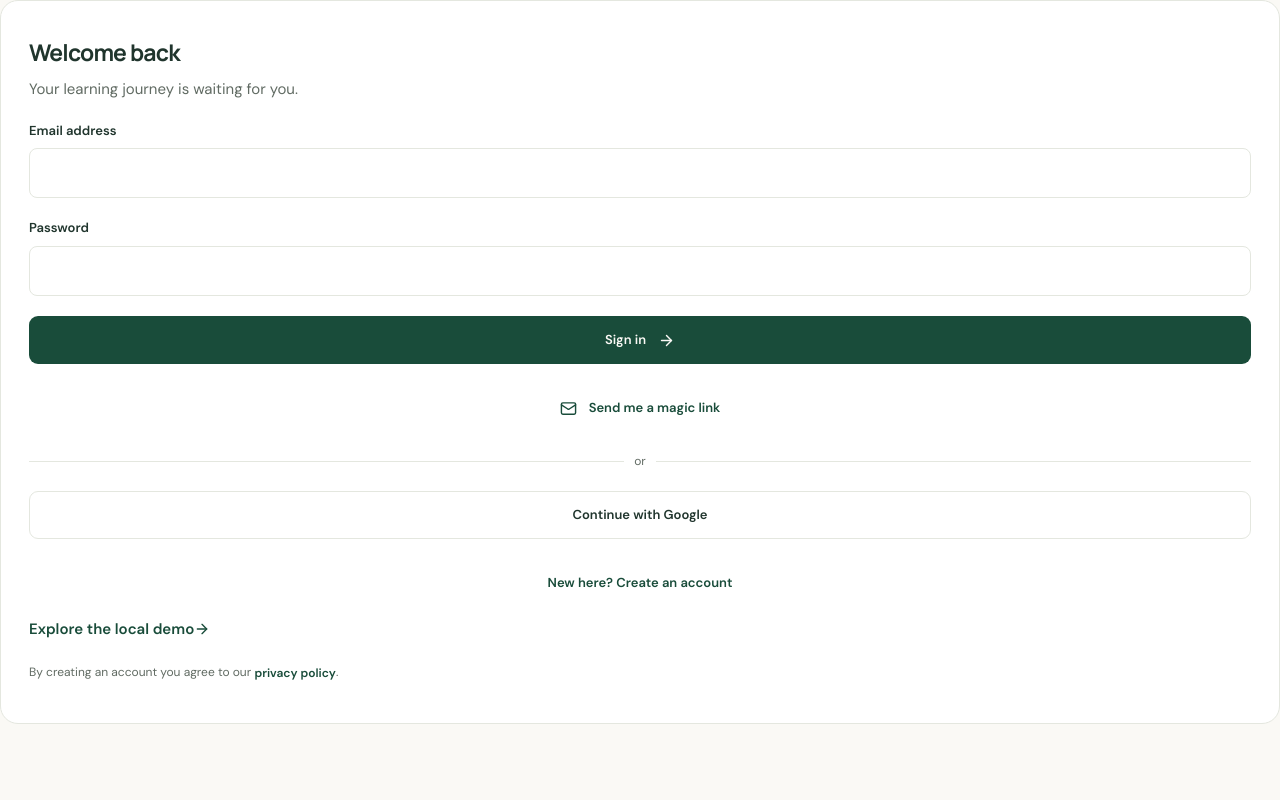
Test: sends magic links and handles provider failure
The width and height of the screenshot is (1280, 800).
Type "learner@example.com" into the field labelled "Email address".
click(640, 173); type("learner@example.com")  # box x1=29 y1=148 x2=1251 y2=198
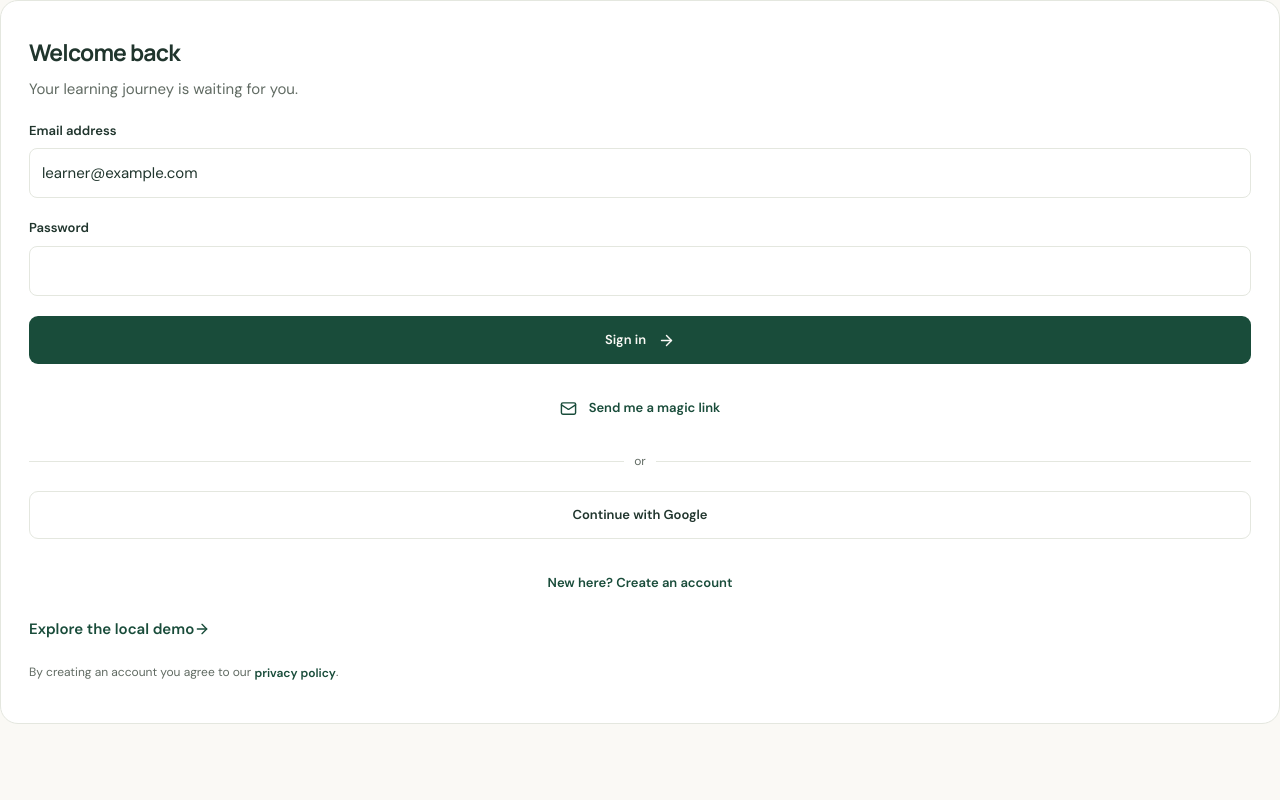
Type "safe-password" into the password field labelled "Password".
click(640, 271); type("safe-password")  # box x1=29 y1=246 x2=1251 y2=296
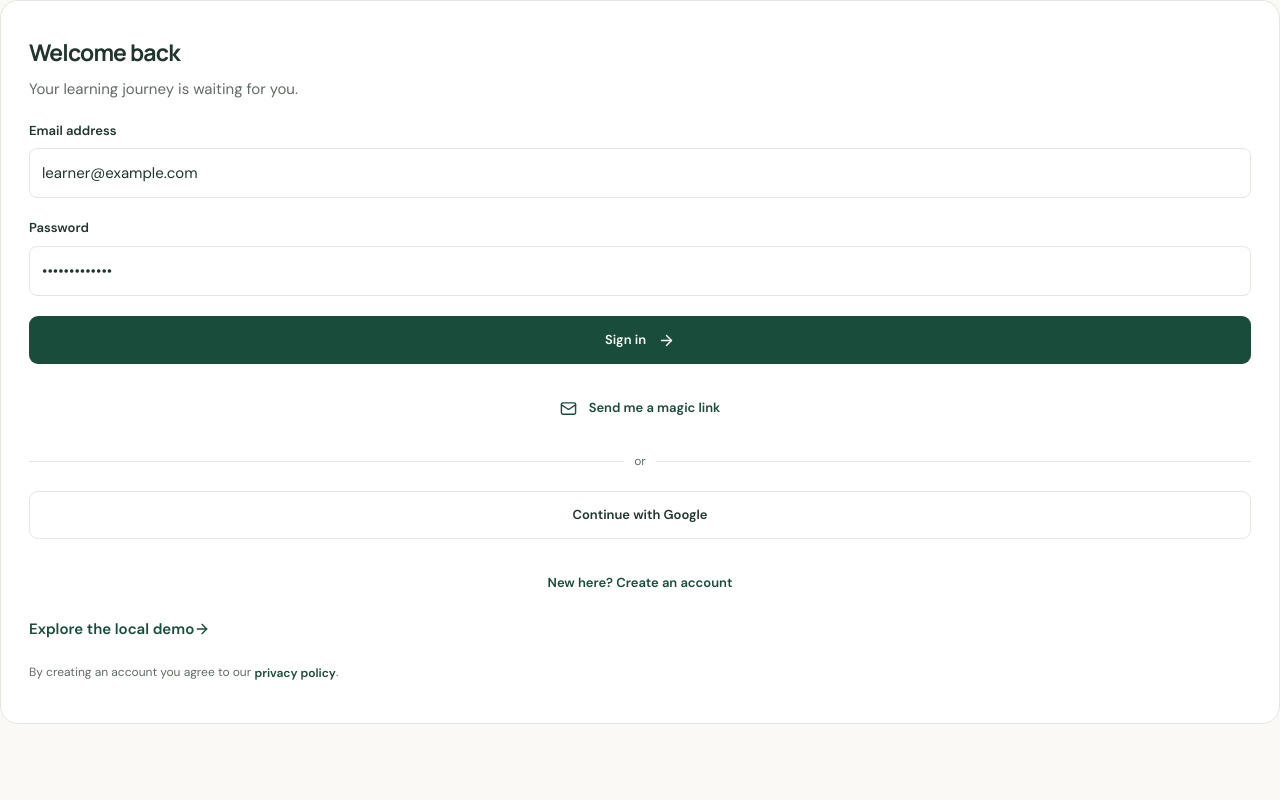
Click the button "Send me a magic link".
click(640, 408)  # box x1=29 y1=384 x2=1251 y2=432
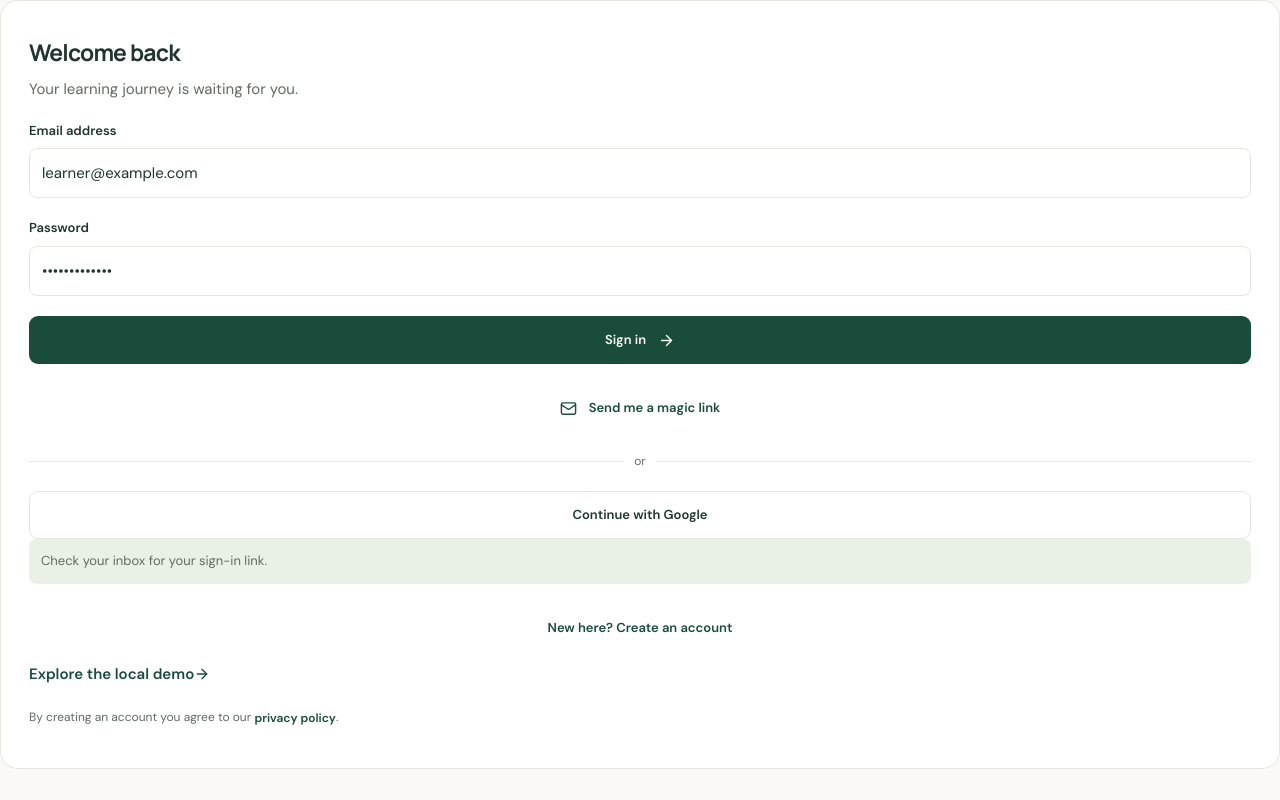
Expected: the message shows "Check your inbox", x1=41 y1=552 x2=267 y2=569
Click the button "Send me a magic link".
click(640, 408)  # box x1=29 y1=384 x2=1251 y2=432
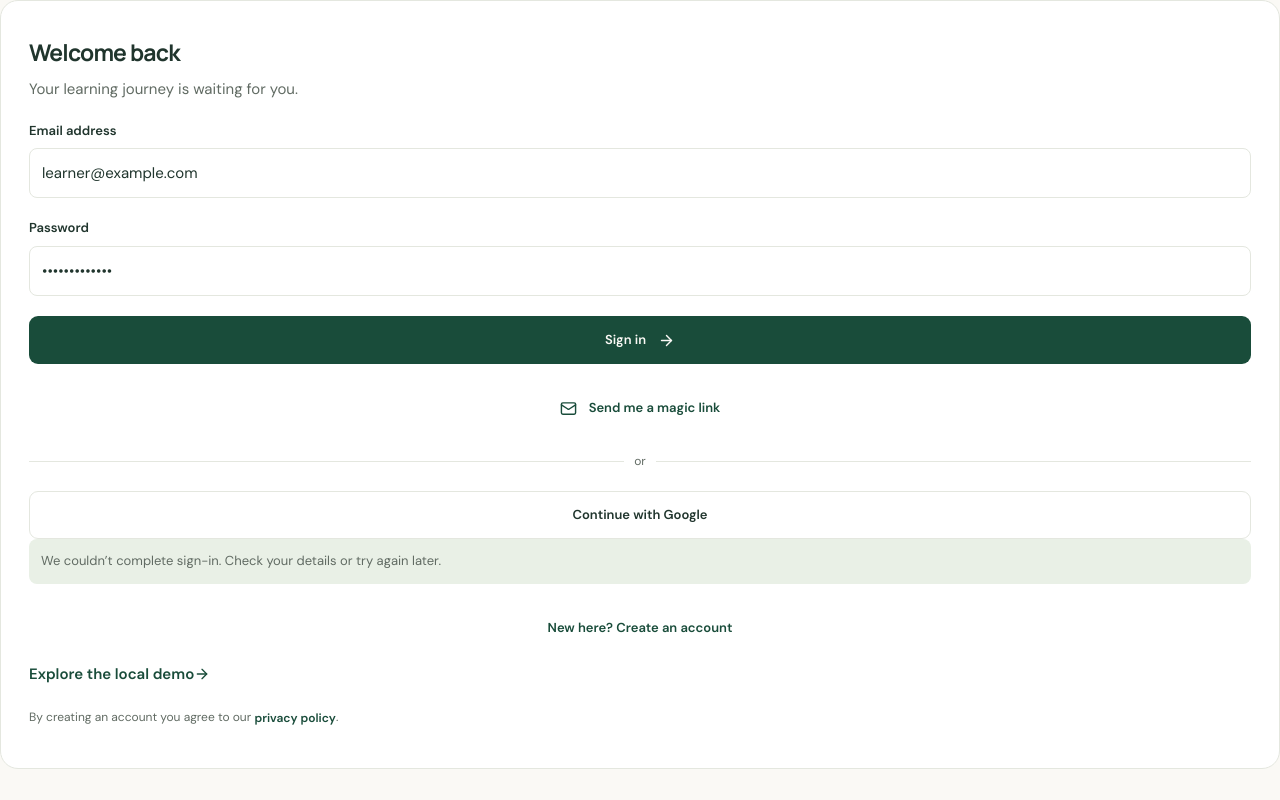
Expected: the message shows "We couldn’t complete sign-in", x1=41 y1=552 x2=441 y2=569
Click the button "Send me a magic link".
click(640, 408)  # box x1=29 y1=384 x2=1251 y2=432
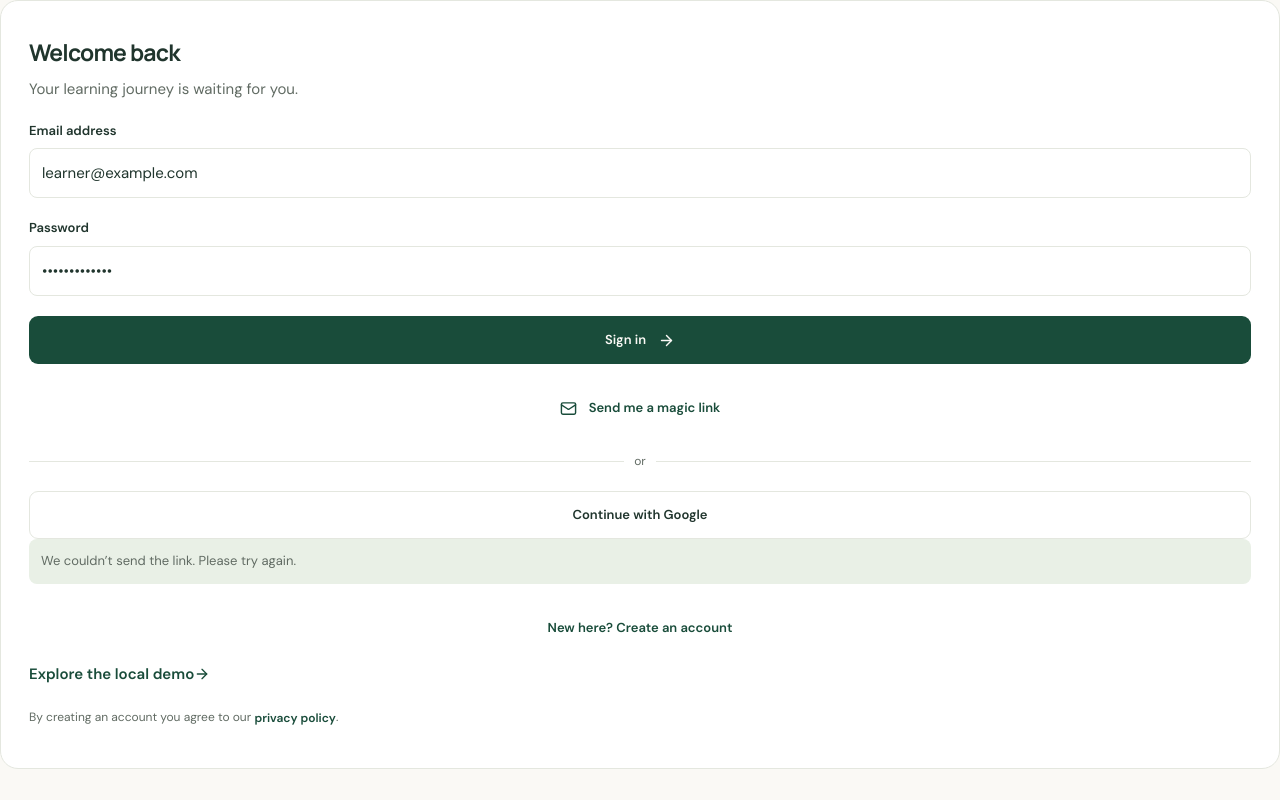
Expected: the message shows "We couldn’t send", x1=41 y1=552 x2=296 y2=569
